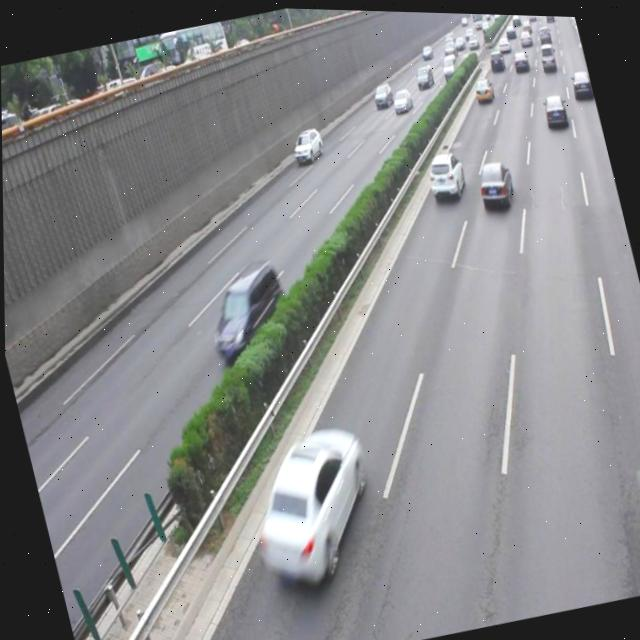car: (232, 416, 387, 587), (421, 145, 468, 200), (470, 154, 515, 210), (626, 433, 640, 586), (286, 123, 325, 163), (537, 87, 569, 131)
truck: (196, 253, 296, 363)
